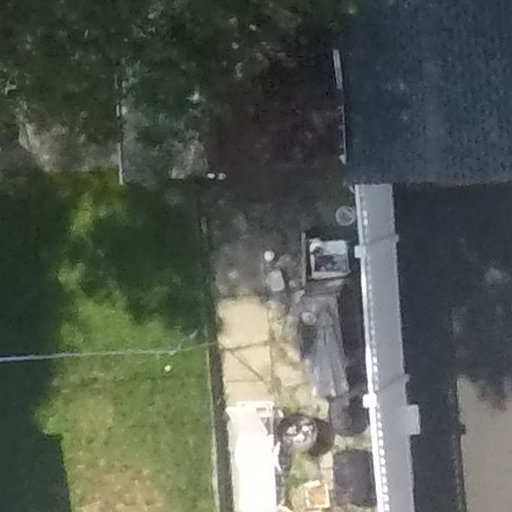chair: (218, 388, 287, 512)
container: (336, 203, 356, 227), (299, 306, 319, 330), (263, 246, 279, 264)
fence: (350, 185, 429, 512)
